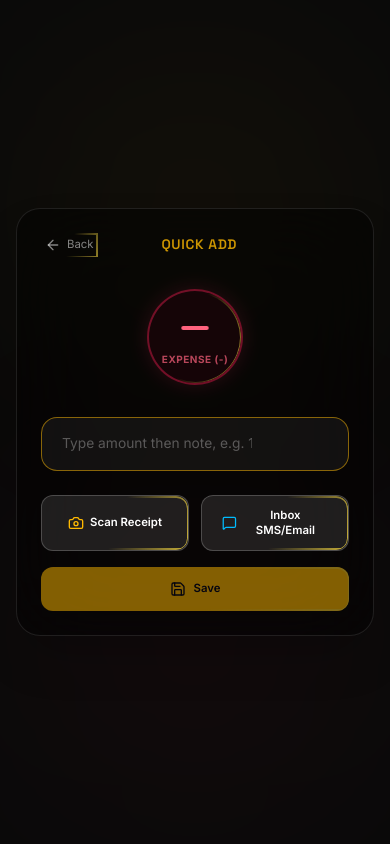
Test: QuickAddPage › updates wizard profile income on save for income
The width and height of the screenshot is (390, 844).
Step 1. Click the button "Expense (-)" → (195,337), box [147,289,243,385]
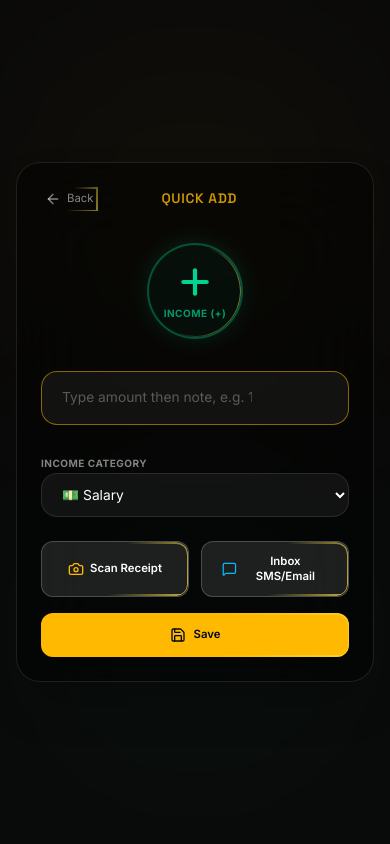
Step 2. Type "2500 bonus" into the field with placeholder "Type amount then note, e.g. 120 lunch" → (195,398), box [41,371,349,425]
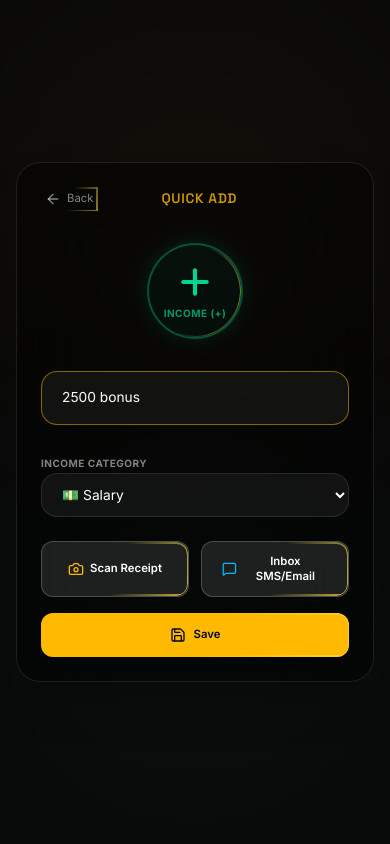
Step 3. Click the button "Save" → (195,635), box [41,613,349,657]
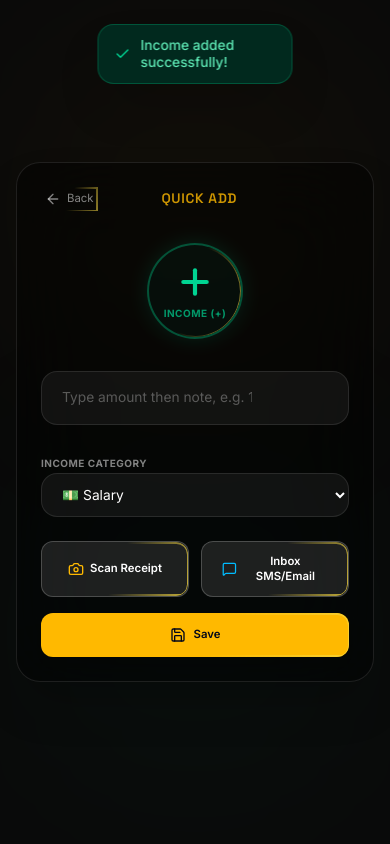
Result: the text "Income added successfully!" is shown at [140,37,234,70]
